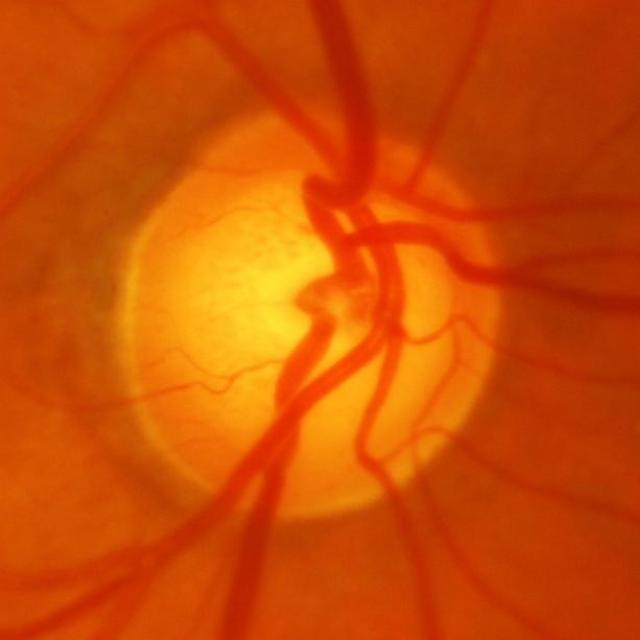OC: (256, 230, 390, 363)
OD: (119, 128, 506, 519)
